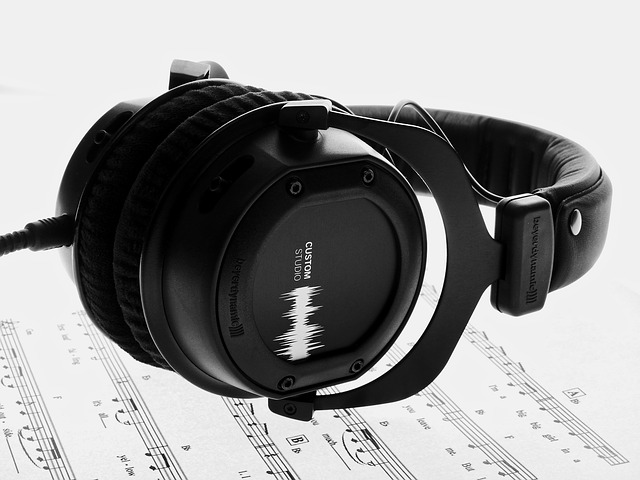headphones: (57, 60, 613, 422)
